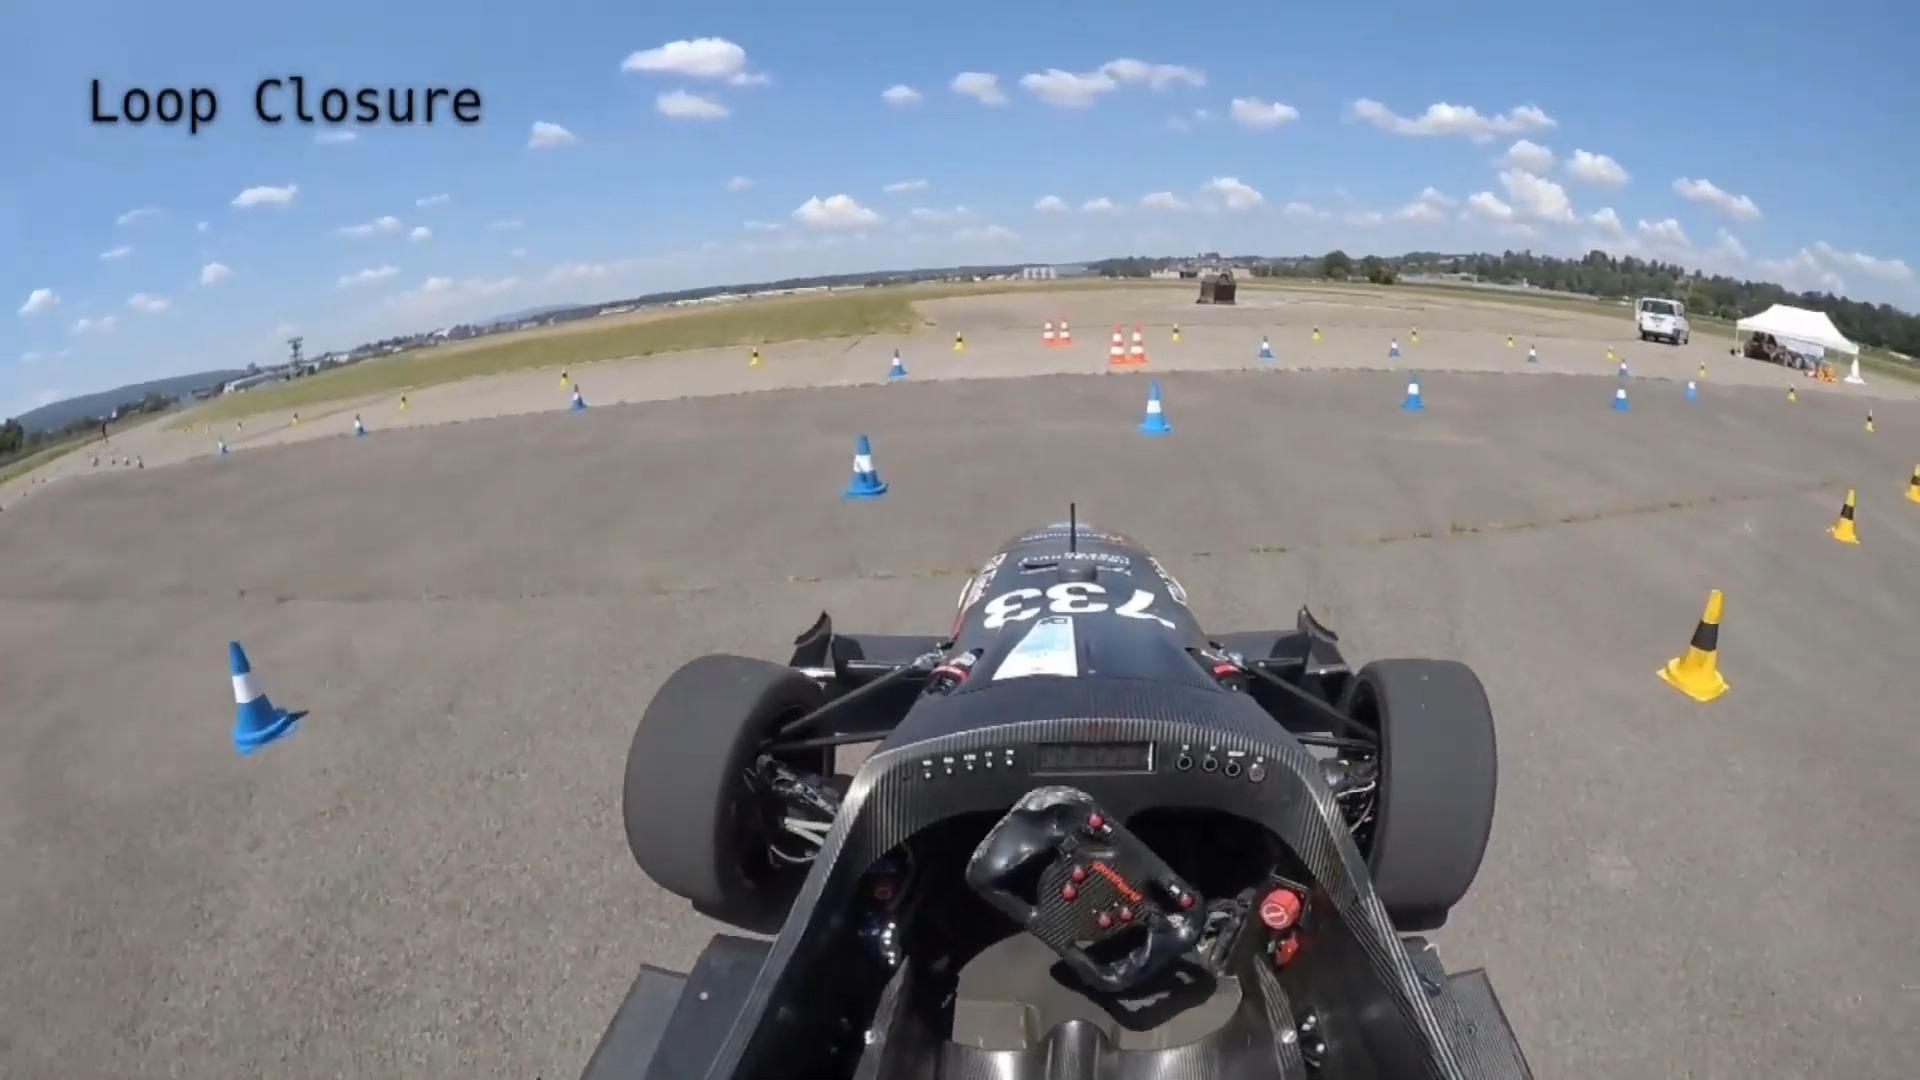blue_cone: (229, 642, 299, 753), (845, 431, 894, 500), (1137, 384, 1172, 435), (1402, 371, 1427, 411)
large_orange_cone: (1127, 323, 1149, 365), (1108, 323, 1127, 365)
yellow_cone: (1659, 587, 1731, 703), (1828, 487, 1863, 545)
